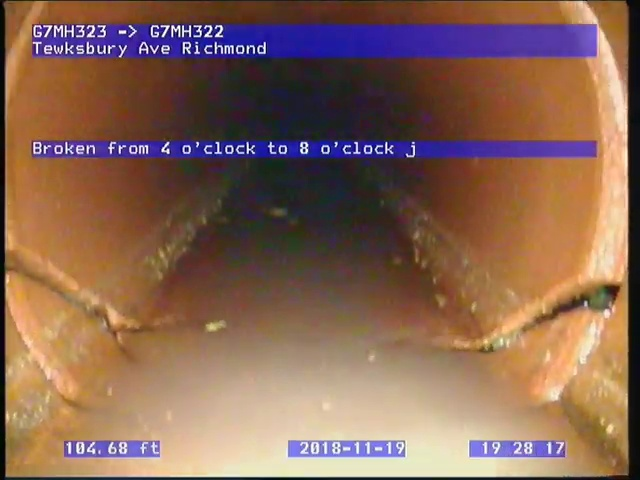crack: (6, 241, 158, 367), (449, 278, 627, 357)
